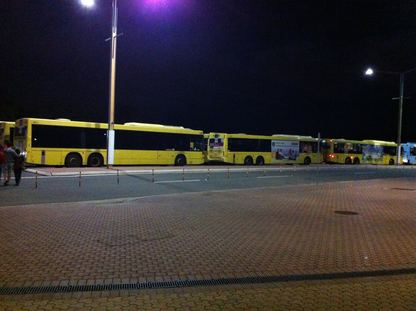bus: (14, 118, 205, 168), (207, 133, 323, 165), (324, 138, 402, 165), (189, 131, 209, 154), (0, 119, 14, 149), (401, 141, 416, 164)
